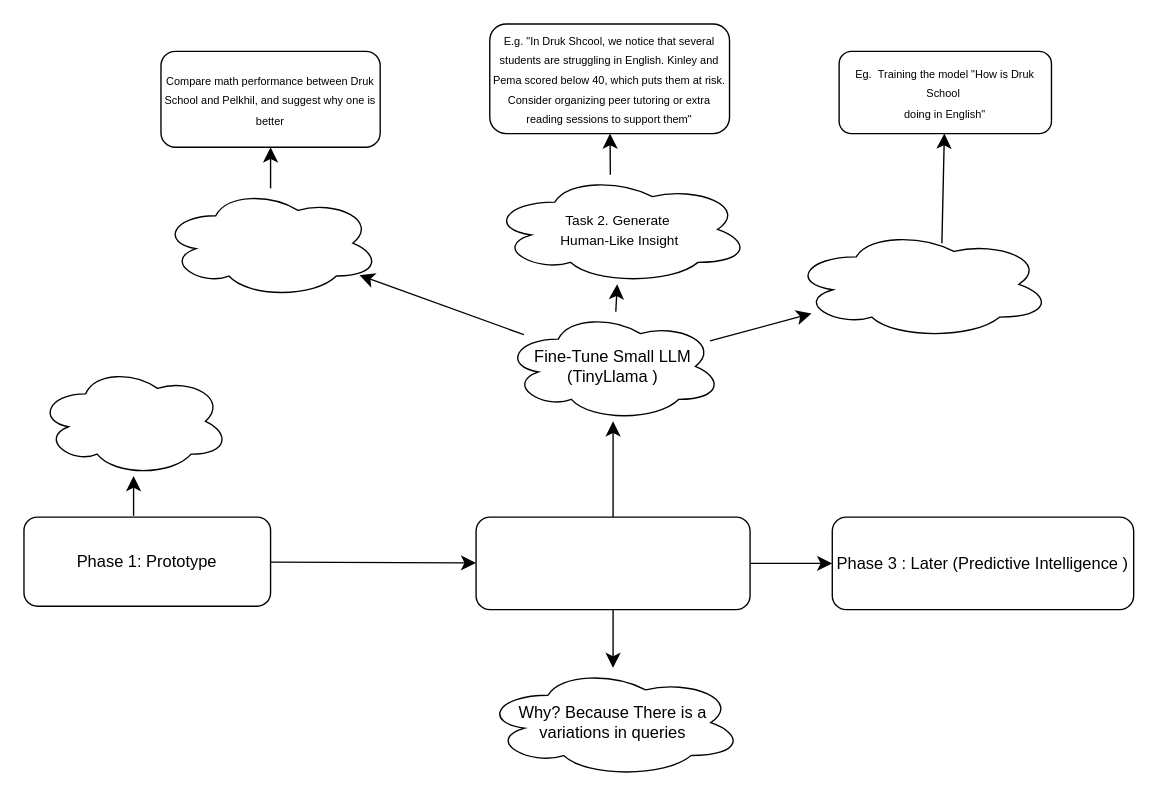
This 1158x801 diagram has some shape labels left out. The box of each missing label's shape, as (x1, y1, x2, y2) in pixels:
Keyword matching: (36, 365, 229, 476)
Phase 2 : Next (Smarter Insights): (475, 516, 750, 610)
Task 1: Answer Complex Queries: (160, 187, 380, 298)
Task 3. Extract intents & entities: (790, 228, 1051, 339)
